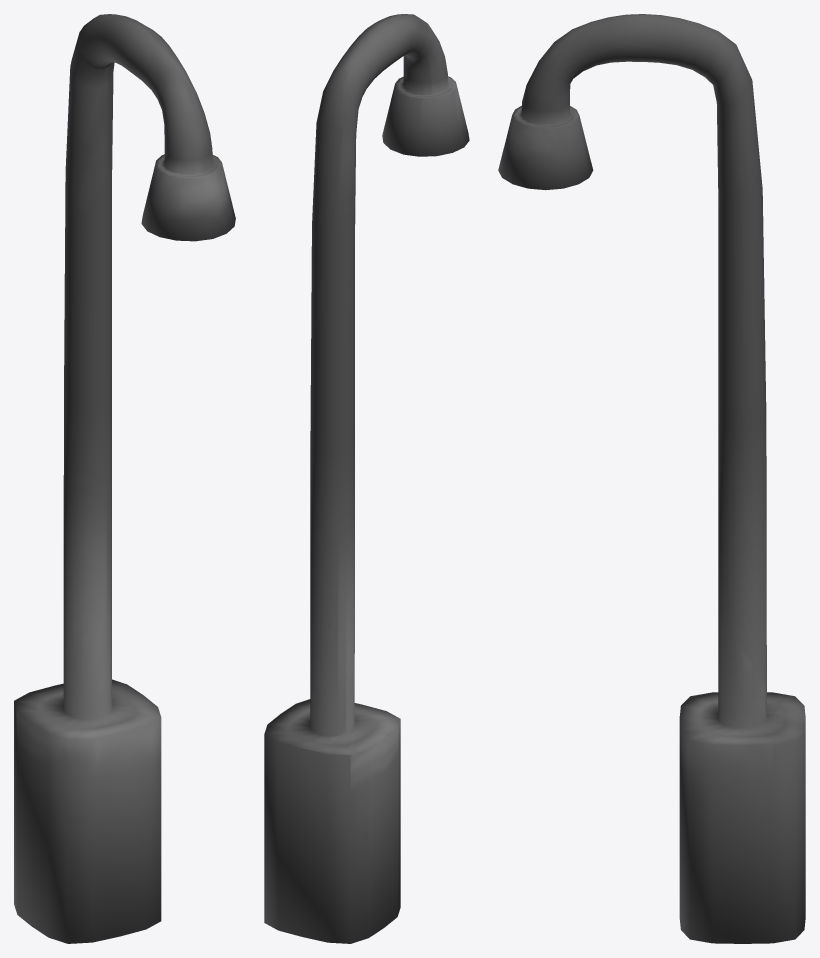
The model's file is light.glb.
3 renders of one model, left to right at view 1: azimuth 30°, elevation 25°; view 2: azimuth 150°, elevation 25°; view 3: azimuth 270°, elevation 25°, orthographic. The views are drawn at different scales.
Parts seen in each view (by area): view 1: Cube; view 2: Cube; view 3: Cube.
Part boxes in pixels (box(x1,y1,x2,y2)): Cube: box(14, 14, 235, 943); Cube: box(264, 14, 469, 943); Cube: box(498, 14, 805, 943).
Bounding box in the file's own units: 1.66 × 13.05 × 4.03.
Materials: 1 (1 with a texture image).
